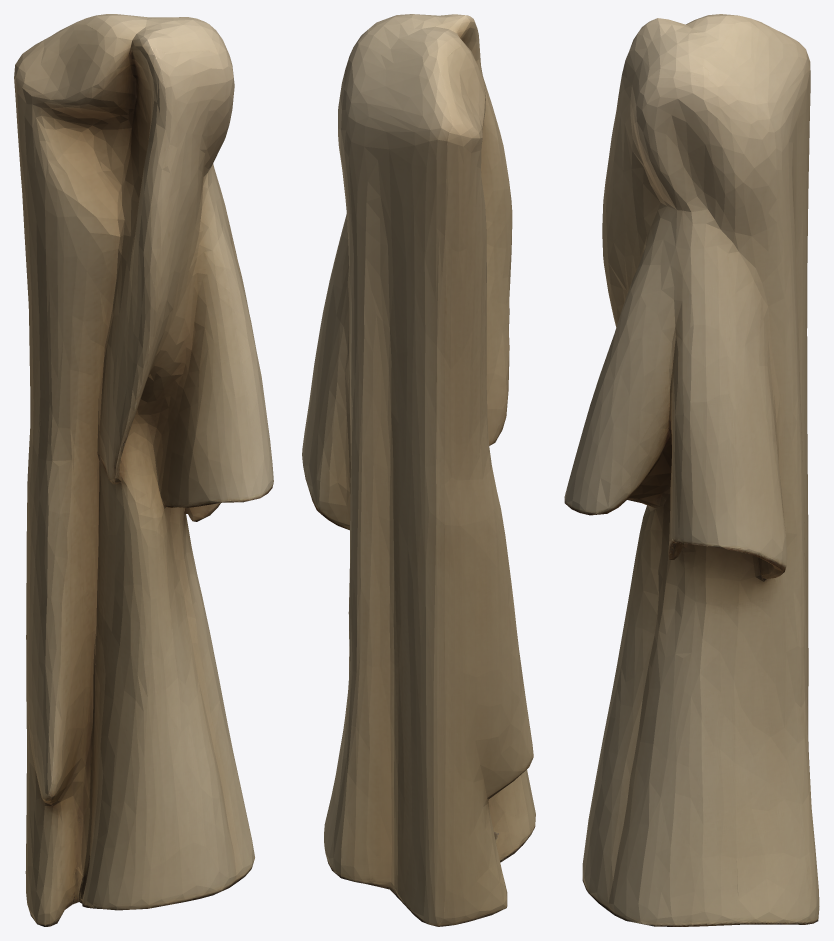
The model's file is scarf4.glb.
3 views of the same model, side by side, from view 1: azimuth 30°, elevation 25°; view 2: azimuth 150°, elevation 25°; view 3: azimuth 270°, elevation 25° (orthographic). The views are drawn at different scales.
Parts seen in each view (by area): view 1: world; view 2: world; view 3: world.
Part boxes in pixels (<box>): world: <box>14,14,273,926</box>; world: <box>302,14,535,926</box>; world: <box>564,14,819,926</box>.
Size of the model in its own units: 0.2573 by 0.9995 by 0.2534.
1 material, 1 textured.
